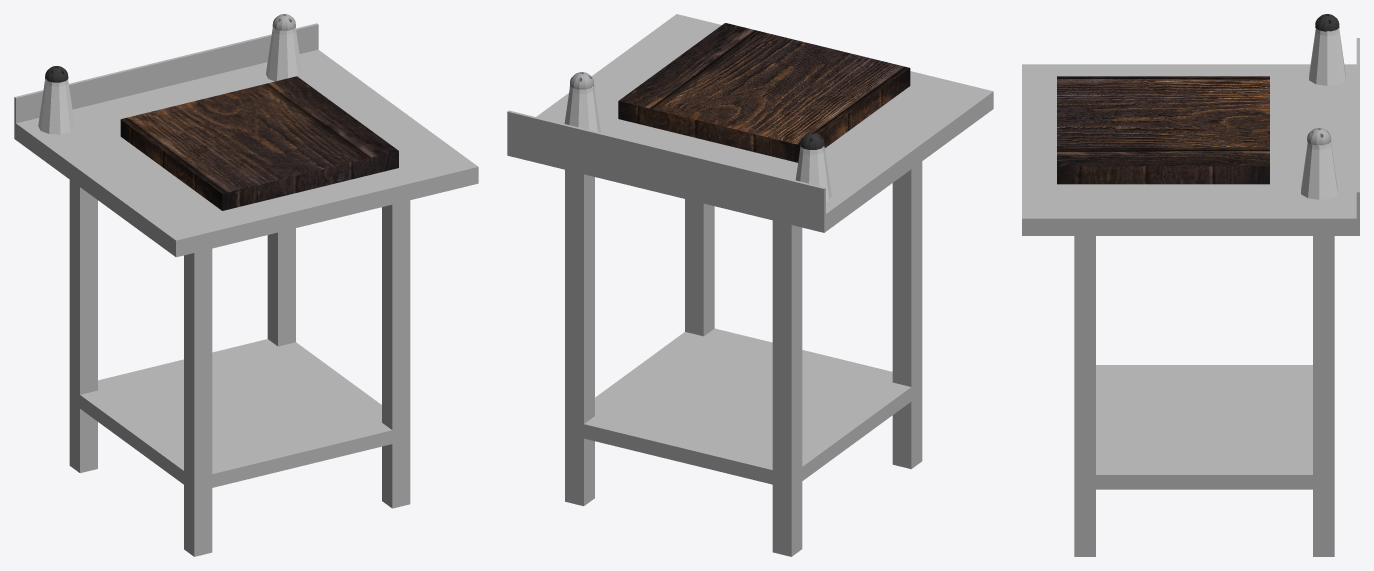
File: GiveTable.fbx
3 renders of one model, left to right at view 1: azimuth 30°, elevation 25°; view 2: azimuth 150°, elevation 25°; view 3: azimuth 270°, elevation 25°, orthographic. The views are drawn at different scales.
Parts seen in each view (by area): view 1: Table, Cube, Cylinder.005, Cylinder.001; view 2: Table, Cube, Cylinder.001, Cylinder.005; view 3: Table, Cube, Cylinder.001, Cylinder.005.
Boxes of the visible parts, left/top/right/bottom form: Table: left=14, top=23, right=478, bottom=556; Cube: left=120, top=76, right=398, bottom=210; Cylinder.005: left=38, top=77, right=74, bottom=134; Cylinder.001: left=266, top=25, right=302, bottom=81; Table: left=507, top=14, right=993, bottom=556; Cube: left=618, top=23, right=910, bottom=162; Cylinder.001: left=564, top=86, right=600, bottom=132; Cylinder.005: left=795, top=145, right=831, bottom=201; Table: left=1022, top=38, right=1359, bottom=556; Cube: left=1057, top=76, right=1269, bottom=184; Cylinder.001: left=1301, top=142, right=1337, bottom=199; Cylinder.005: left=1309, top=28, right=1345, bottom=85.
Size of the model in its own units: 1.2 by 1.11 by 1.54.
Materials: 4 (1 with a texture image).
